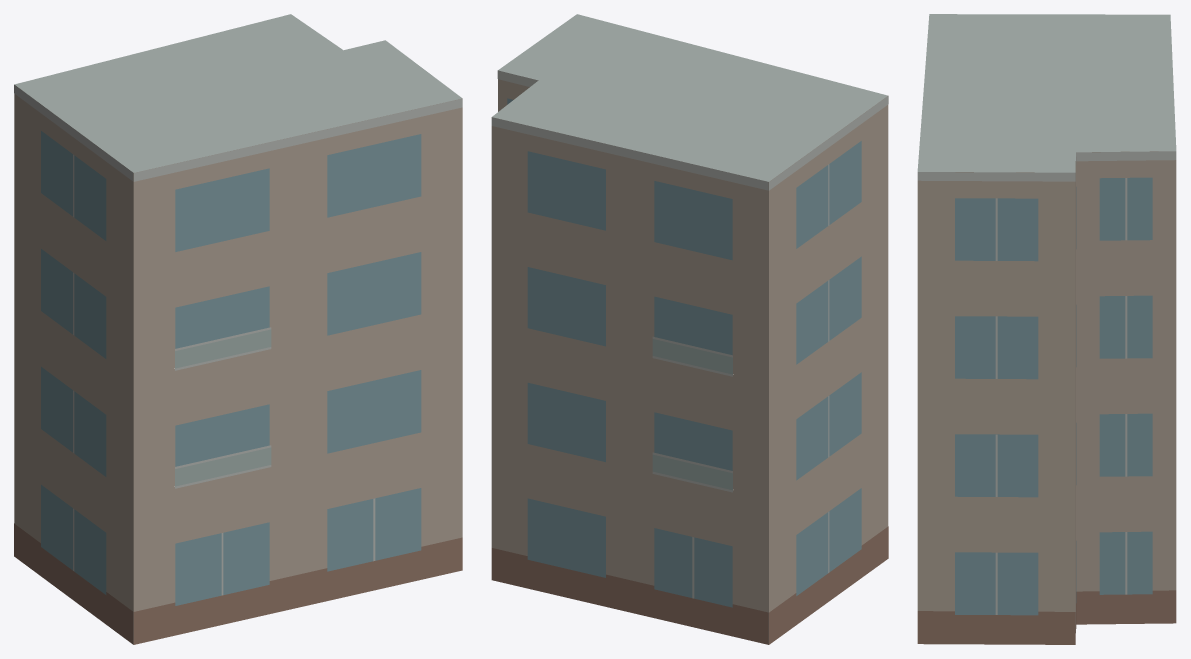
File: survey-upis-32554490.glb
The picture shows the model from 3 angles, left to right: view 1: azimuth 30°, elevation 25°; view 2: azimuth 150°, elevation 25°; view 3: azimuth 270°, elevation 25°; orthographic projection.
Parts seen in each view (by area): view 1: survey-upis-32554490.tmp; view 2: survey-upis-32554490.tmp; view 3: survey-upis-32554490.tmp.
Boxes of the visible parts, x1,y1,x2,y2 form: survey-upis-32554490.tmp: (14,14,462,644); survey-upis-32554490.tmp: (491,14,888,644); survey-upis-32554490.tmp: (917,14,1176,644).
Bounding box in the file's own units: 9.23 × 12.8 × 6.37.
